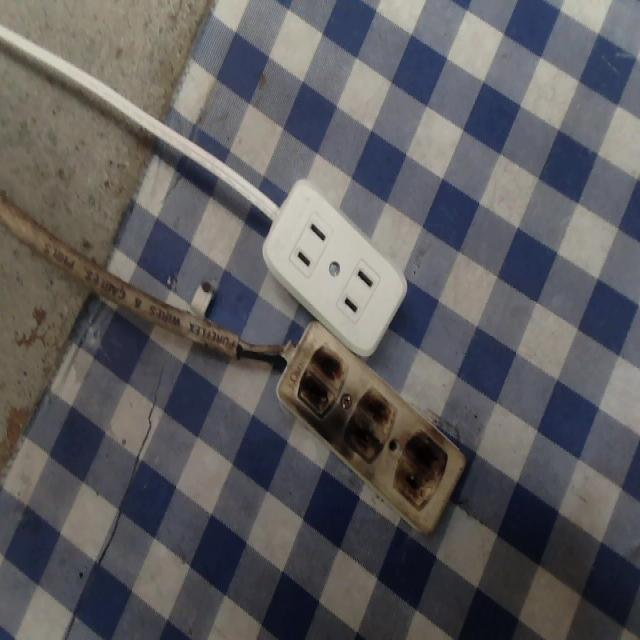-: (395, 418, 442, 510), (295, 333, 343, 415), (346, 382, 392, 467)
